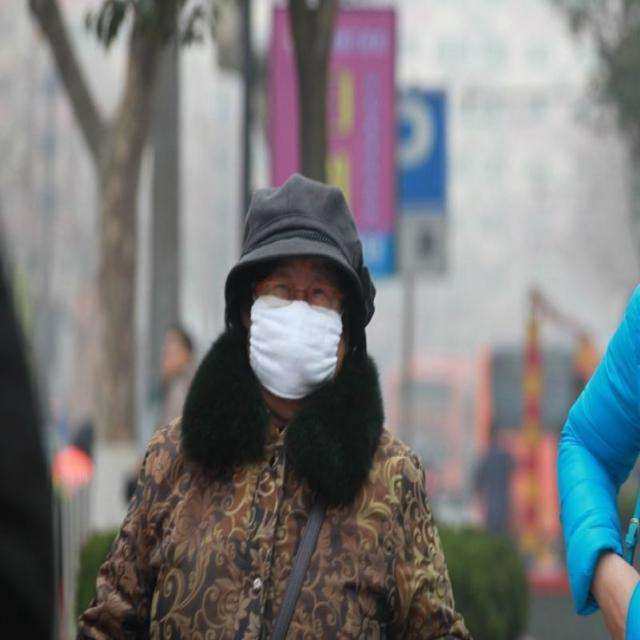mask: (250, 244, 340, 401)
